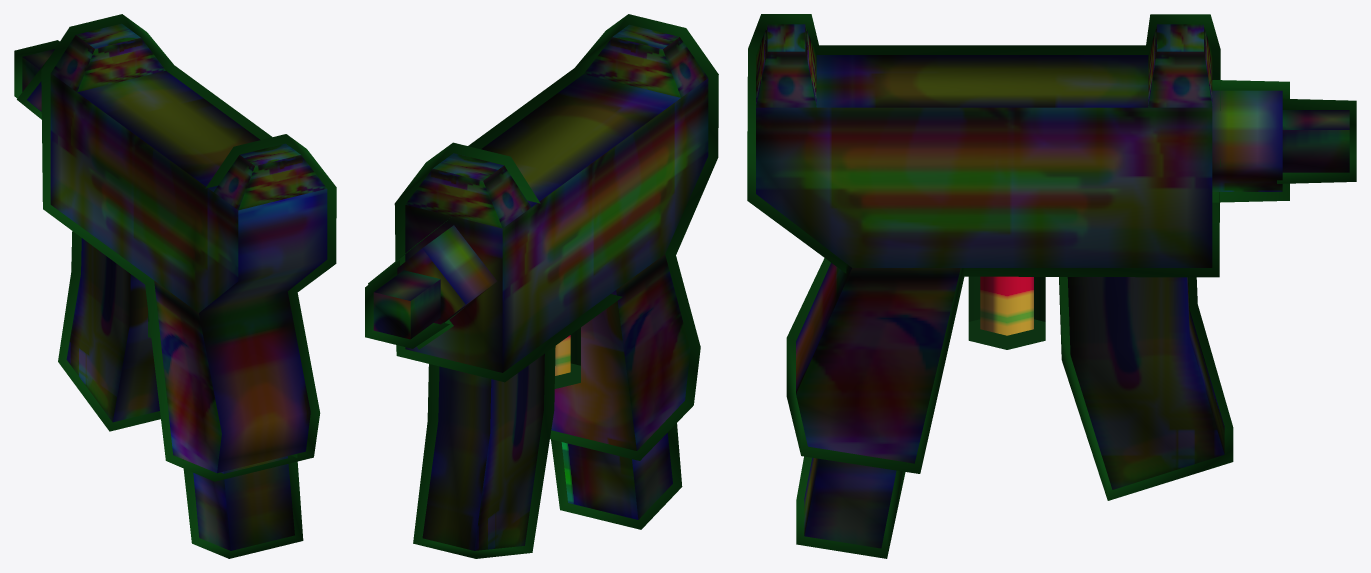
Rendered from Uzi.FBX.
The picture shows the model from 3 angles, left to right: view 1: azimuth 30°, elevation 25°; view 2: azimuth 150°, elevation 25°; view 3: azimuth 270°, elevation 25°; orthographic projection. The views are drawn at different scales.
Parts seen in each view (by area): view 1: Uzi; view 2: Uzi, Uzi_Shell; view 3: Uzi, Uzi_Shell.
Boxes of the visible parts, x1,y1,x2,y2 form: Uzi: (14, 14, 336, 558); Uzi: (365, 14, 718, 558); Uzi_Shell: (554, 327, 580, 388); Uzi: (747, 14, 1356, 558); Uzi_Shell: (968, 276, 1045, 349).
Bounding box in the file's own units: 48.01 × 184 × 200.
Materials: 1 (1 with a texture image).
